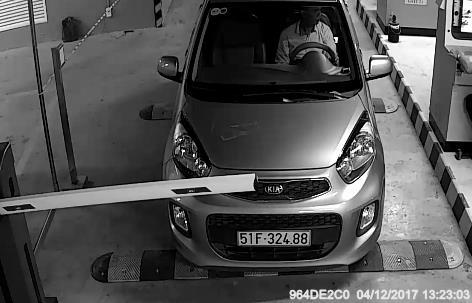License-plate: (229, 220, 319, 258)
